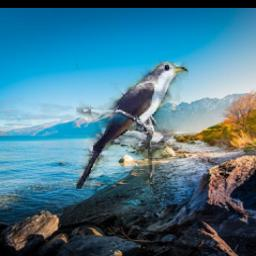Cuckoo: (75, 62, 187, 190)
